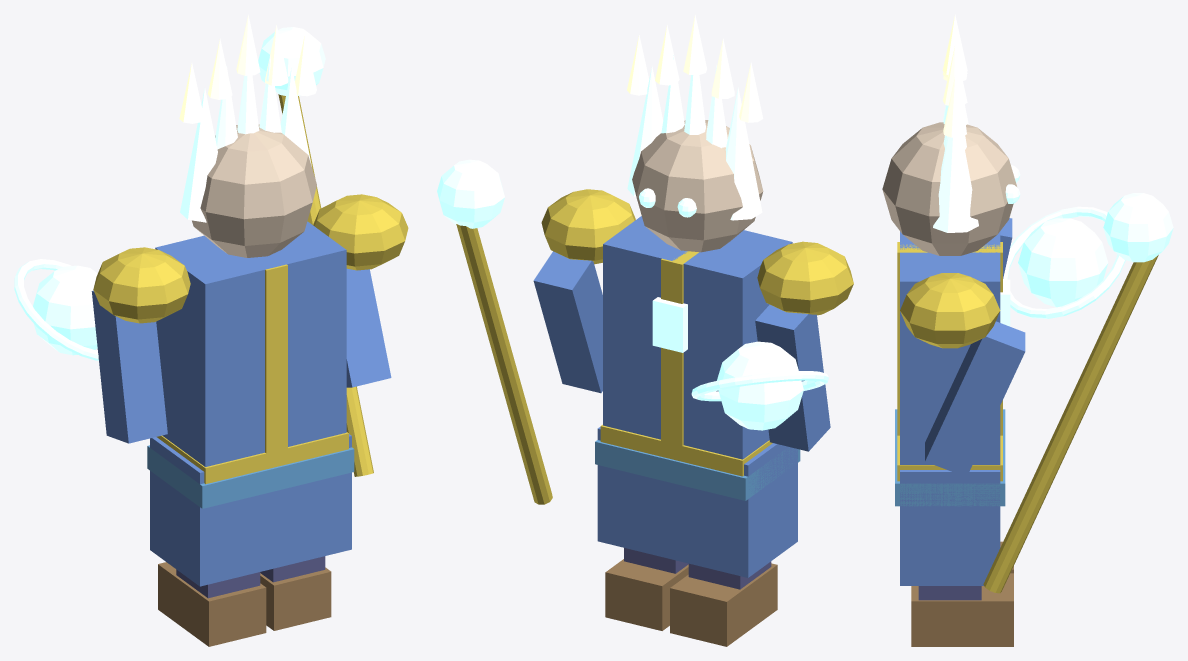
File: electro_wizard.glb
3 renders of one model, left to right at view 1: azimuth 30°, elevation 25°; view 2: azimuth 150°, elevation 25°; view 3: azimuth 270°, elevation 25°, orthographic.
Visible parts, largest first — view 1: electro_wizard; view 2: electro_wizard; view 3: electro_wizard.
Part boxes in pixels (x1,y1,x2,y2): electro_wizard: (14, 14, 408, 646); electro_wizard: (437, 14, 853, 646); electro_wizard: (882, 14, 1173, 646).
Bounding box in the file's own units: 1.56 × 2.65 × 1.16.
